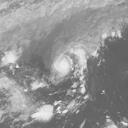cyclone: (50, 53, 75, 84)
